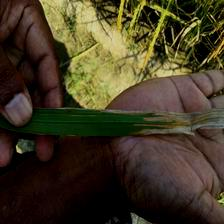2 BacterialBlight: (62, 97, 222, 134)
